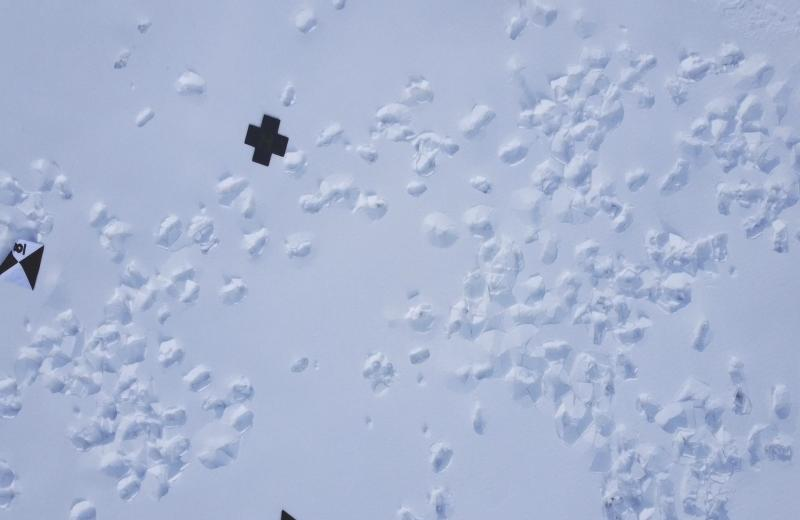Cross: (245, 113, 290, 168)
